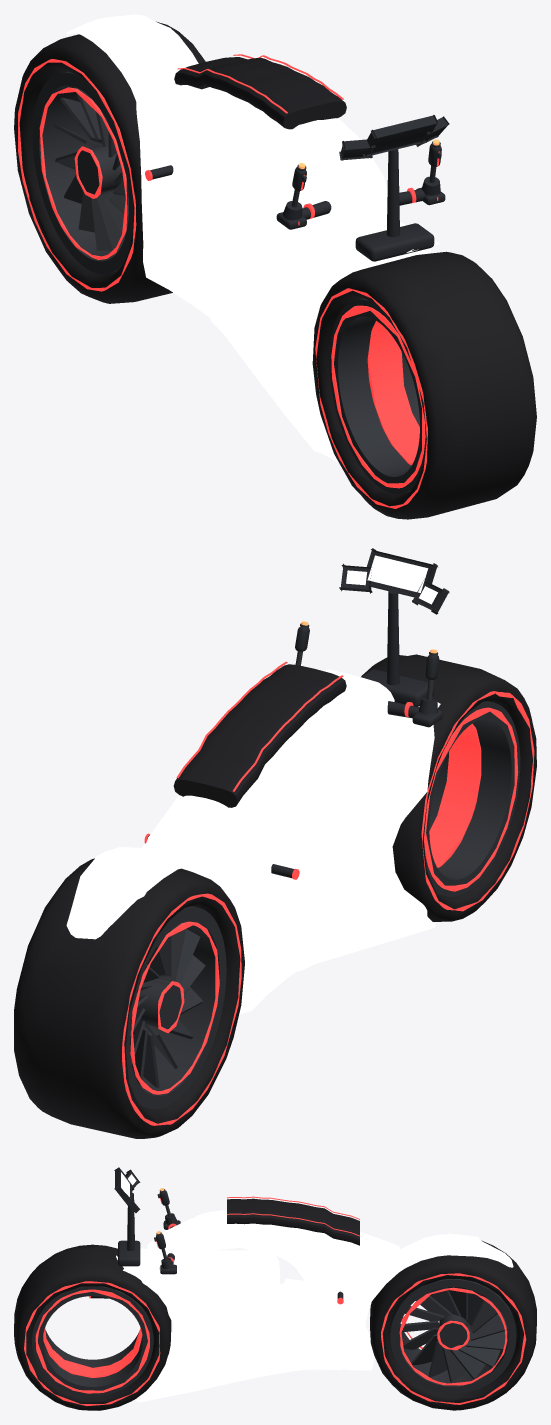
Rendered from cycle-ember.lod.glb.
3 views of the same model, one above another, from view 1: azimuth 30°, elevation 25°; view 2: azimuth 150°, elevation 25°; view 3: azimuth 270°, elevation 25° (orthographic). The views are drawn at different scales.
Parts seen in each view (by area): view 1: Body, WheelFront, StickL, Interior; view 2: Body, WheelFront, StickL, Interior; view 3: Body, StickL, WheelFront, Interior.
Part boxes in pixels (x1,y1,x2,y2): Body: [66, 14, 440, 462]; WheelFront: [14, 21, 536, 519]; StickL: [18, 54, 449, 508]; Interior: [174, 57, 346, 129]; Body: [66, 669, 440, 1013]; WheelFront: [14, 654, 536, 1138]; StickL: [122, 548, 534, 1125]; Interior: [173, 555, 437, 807]; Body: [116, 1210, 513, 1401]; StickL: [24, 1167, 526, 1405]; WheelFront: [14, 1240, 536, 1410]; Interior: [91, 1172, 359, 1298].
Bounding box in the file's own units: 0.5805 × 1.31 × 2.79.
